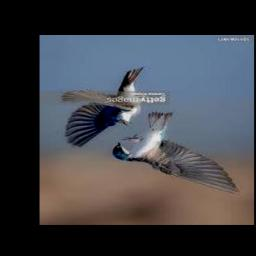Swallow: (112, 112, 240, 195), (62, 68, 144, 147)
